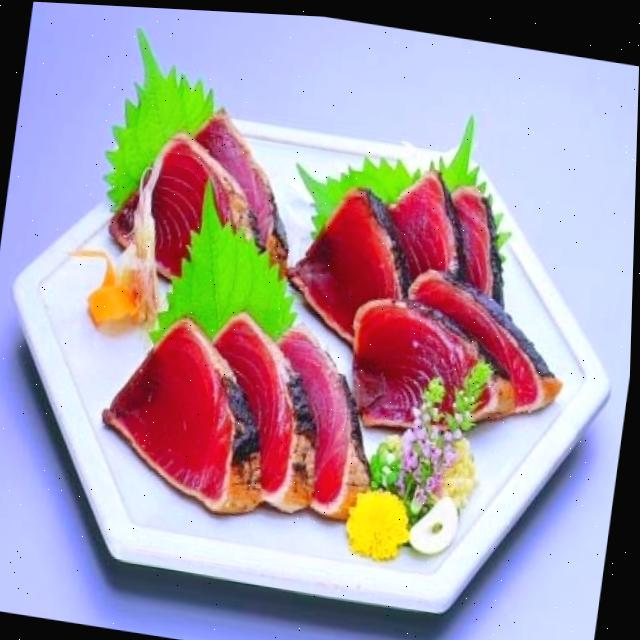熟制海鲜: (0, 45, 623, 640)
